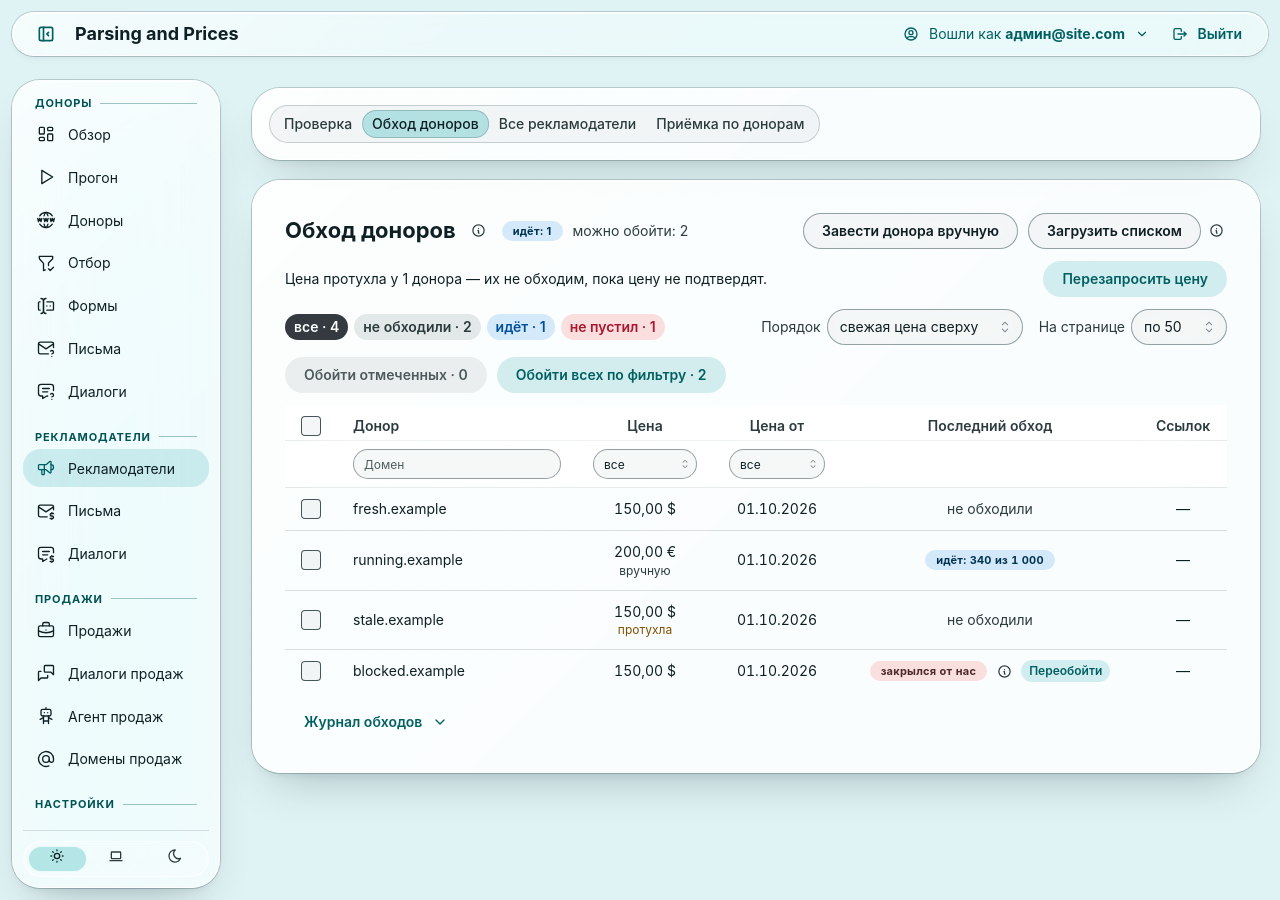
Test: вкладка «Обход доноров» › счётчик — фильтр: уходит на сервер, нажат — подсвечен, остальные строки уходят
Click the button "не пустил · 1".
click(613, 327)  # box [561,314,665,340]
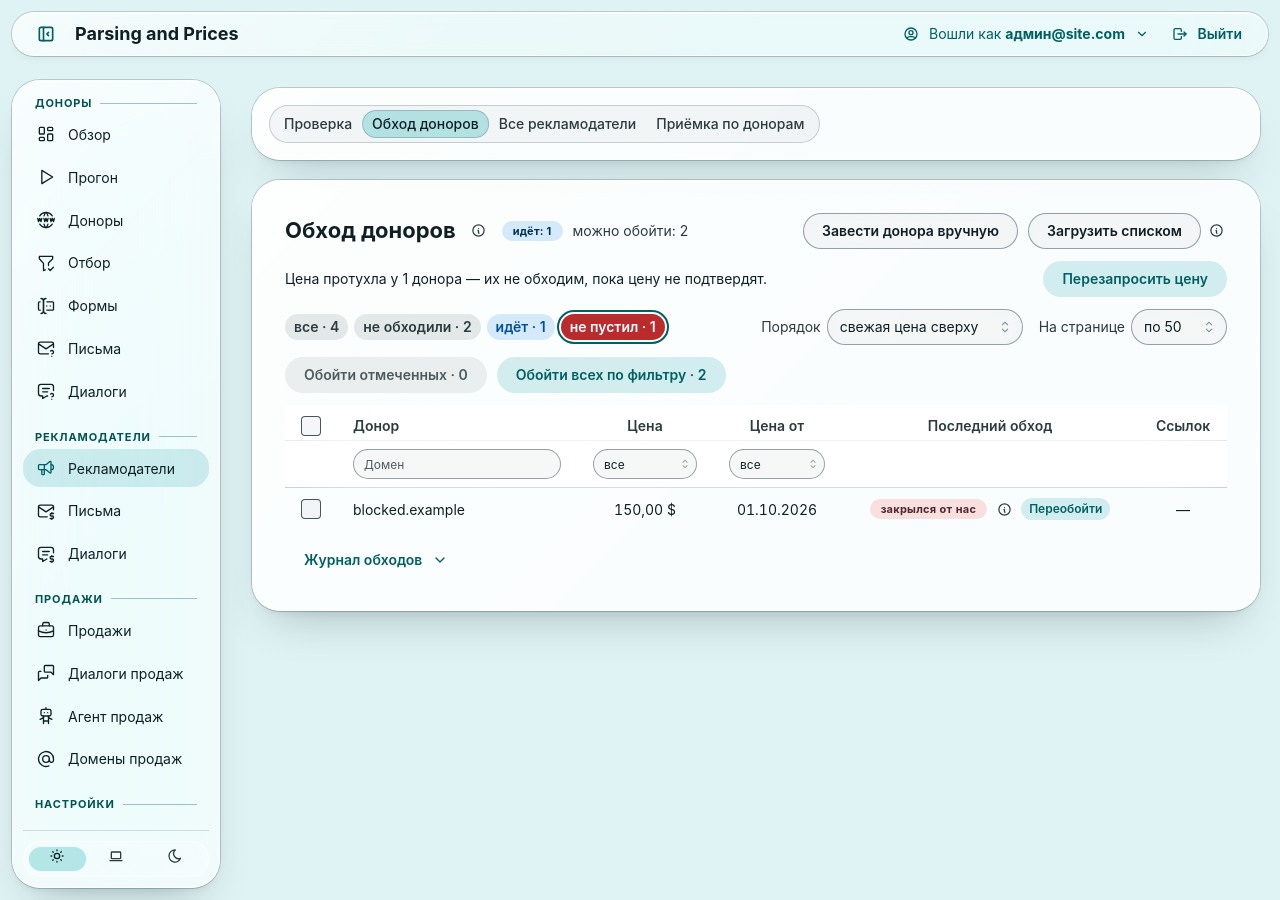
Expected: the text "fresh.example" is gone
